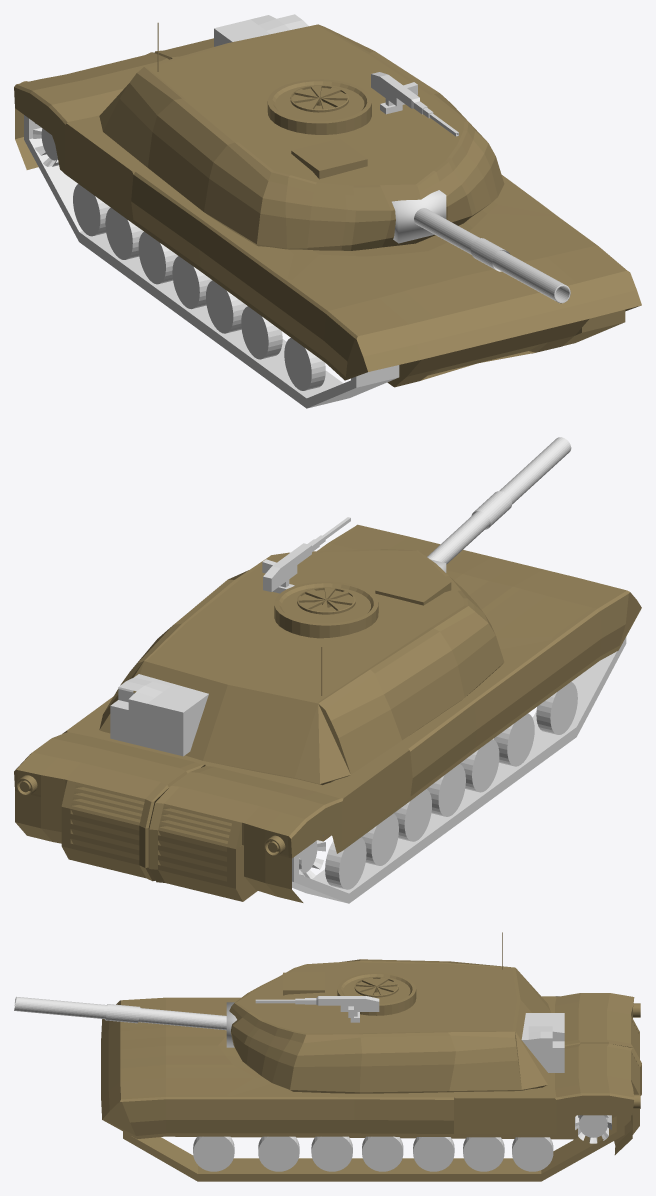
The picture shows the model from 3 angles, top to bottom: view 1: azimuth 30°, elevation 25°; view 2: azimuth 150°, elevation 25°; view 3: azimuth 270°, elevation 25°; orthographic projection. The views are drawn at different scales.
Parts seen in each view (by area): view 1: Plane.001, Plane.000, Cube.004, Cylinder, Cube.002, Cube.001, Cube, Cylinder.017, Cylinder.016, Cylinder.015, Cylinder.014, Cylinder.013 (+4 smaller); view 2: Plane.001, Plane.000, Cube.004, Cube, Cylinder, Cube.002, Cylinder.011, Cylinder.017, Cylinder.016, Cylinder.015, Cylinder.014, Cylinder.013 (+2 smaller); view 3: Plane.001, Plane.000, Cube.003, Cylinder, Cube, Cube.002, Cylinder.010, Cylinder.008, Cylinder.009, Cylinder.007, Cylinder.005, Cylinder.006 (+2 smaller).
Part boxes in pixels (box(x1,y1,x2,y2)): Plane.001: box(14, 38, 641, 387); Plane.000: box(99, 22, 504, 250); Cube.004: box(24, 115, 399, 408); Cylinder: box(414, 208, 570, 303); Cube.002: box(371, 72, 458, 136); Cube.001: box(392, 190, 446, 243); Cube: box(214, 14, 308, 46); Cylinder.017: box(284, 338, 325, 390); Cylinder.016: box(241, 306, 282, 359); Cylinder.015: box(206, 280, 246, 333); Cylinder.014: box(172, 256, 212, 309); Cylinder.013: box(138, 231, 177, 284); Plane.001: box(14, 524, 641, 902); Plane.000: box(99, 549, 504, 785); Cube.004: box(292, 637, 626, 903); Cube: box(110, 674, 208, 756); Cylinder: box(427, 437, 571, 564); Cube.002: box(262, 517, 350, 593); Cylinder.011: box(325, 837, 366, 889); Cylinder.017: box(536, 682, 577, 734); Cylinder.016: box(494, 713, 534, 766); Cylinder.015: box(460, 739, 499, 792); Cylinder.014: box(427, 764, 465, 816); Cylinder.013: box(394, 789, 431, 841); Plane.001: box(101, 993, 641, 1154); Plane.000: box(229, 932, 550, 1093); Cube.003: box(123, 1115, 624, 1181); Cylinder: box(14, 996, 226, 1030); Cube: box(521, 1013, 564, 1072); Cube.002: box(255, 996, 379, 1022); Cylinder.010: box(193, 1136, 234, 1171); Cylinder.008: box(311, 1136, 352, 1171); Cylinder.009: box(258, 1136, 299, 1171); Cylinder.007: box(362, 1136, 403, 1171); Cylinder.005: box(463, 1137, 504, 1171); Cylinder.006: box(413, 1137, 454, 1171).
Bounding box in the file's own units: 986 × 754 × 2524.
